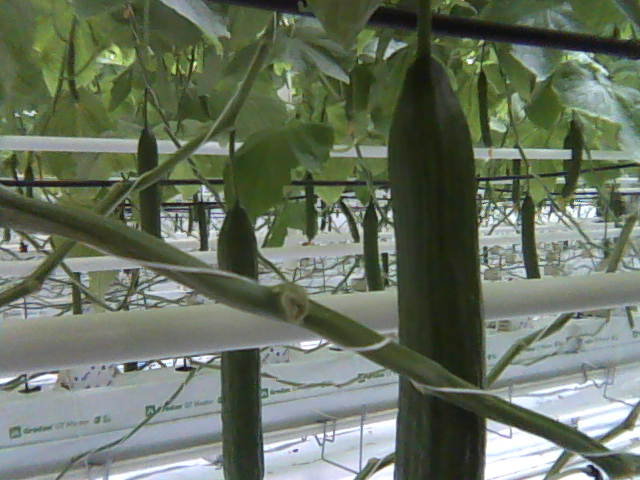concombre: (384, 39, 491, 480)
